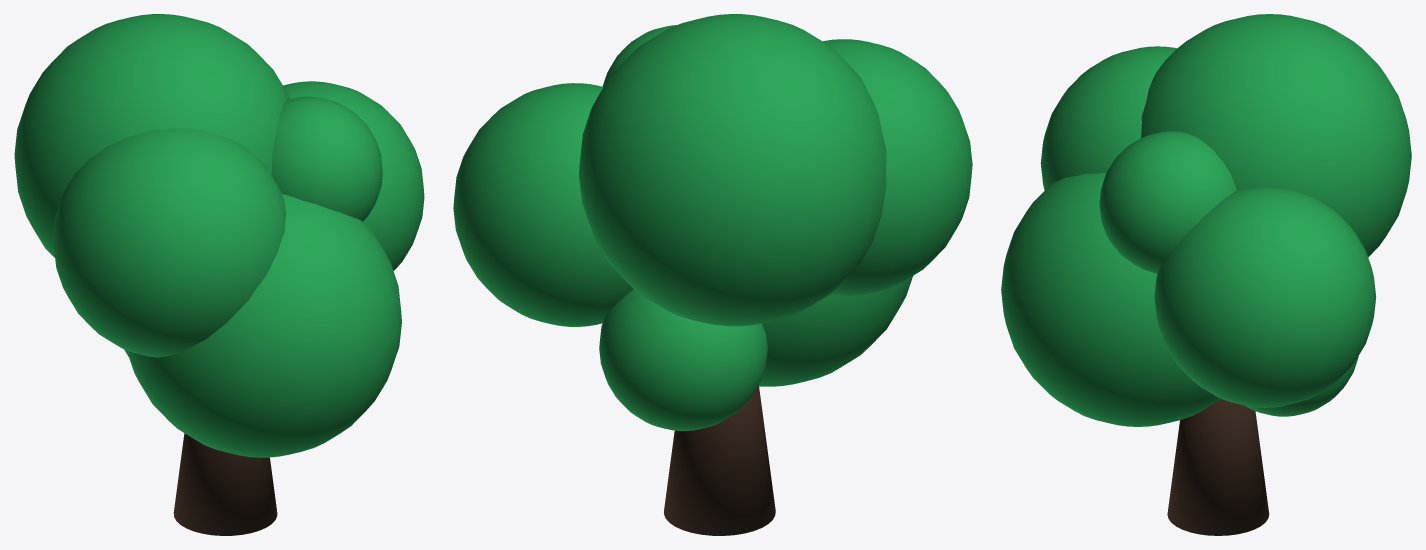
File: BigBallTree.fbx
3 views of the same model, side by side, from view 1: azimuth 30°, elevation 25°; view 2: azimuth 150°, elevation 25°; view 3: azimuth 270°, elevation 25° (orthographic). The views are drawn at different scales.
Visible parts, largest first — view 1: BallTree.001; view 2: BallTree.001; view 3: BallTree.001.
Part boxes in pixels (left/top/right/bottom): BallTree.001: left=14, top=14, right=424, bottom=535; BallTree.001: left=453, top=14, right=972, bottom=535; BallTree.001: left=1001, top=14, right=1411, bottom=535.
Bounding box in the file's own units: 1094 × 1261 × 1003.
